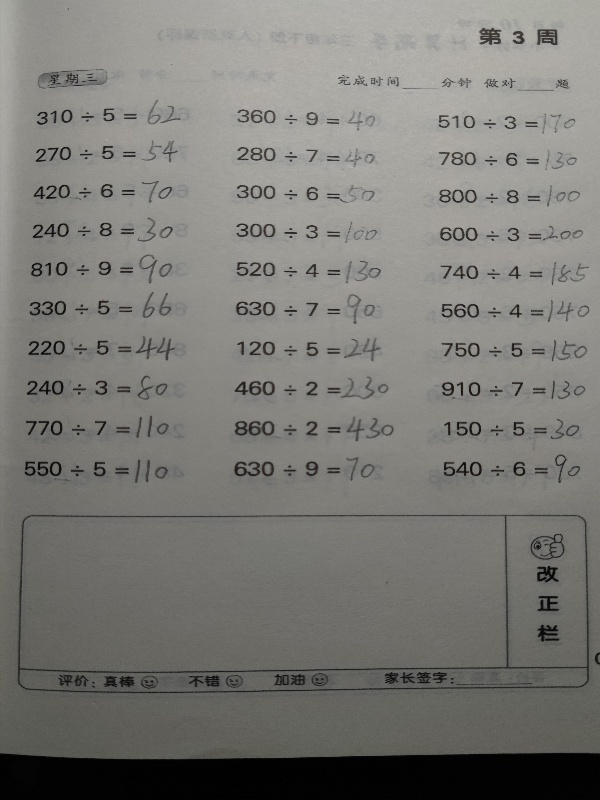equation: (233, 289, 383, 324), (440, 451, 585, 487), (230, 415, 397, 445), (32, 132, 183, 164), (26, 290, 174, 322), (437, 334, 589, 365), (231, 371, 393, 400), (25, 334, 179, 364), (436, 255, 590, 285), (24, 372, 172, 403), (21, 457, 172, 487), (231, 454, 379, 484), (29, 173, 180, 202), (33, 97, 183, 126), (23, 413, 173, 441), (441, 415, 584, 444), (234, 332, 382, 360), (233, 214, 380, 242), (438, 377, 590, 404), (437, 297, 593, 323), (234, 255, 384, 281), (26, 255, 174, 281), (29, 218, 176, 244), (435, 144, 582, 170), (233, 178, 378, 204), (233, 104, 379, 129), (233, 141, 378, 166), (437, 222, 586, 246), (436, 184, 582, 208), (435, 109, 579, 133)
